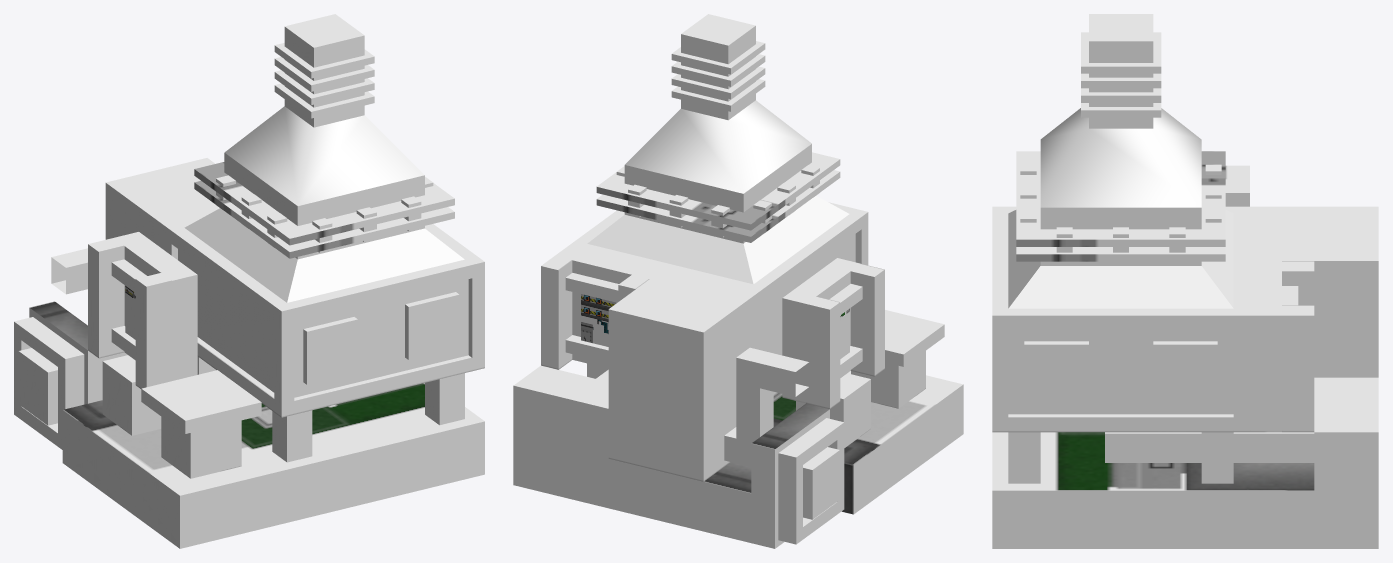
Rendered from reaction_still.obj.
3 views of the same model, side by side, from view 1: azimuth 30°, elevation 25°; view 2: azimuth 150°, elevation 25°; view 3: azimuth 270°, elevation 25° (orthographic). The views are drawn at different scales.
Parts seen in each view (by area): view 1: cube.005; view 2: cube.005; view 3: cube.005.
Part boxes in pixels (x1,y1,x2,y2): cube.005: [14, 14, 484, 548]; cube.005: [513, 14, 963, 548]; cube.005: [992, 14, 1378, 548].
Size of the model in its own units: 3 by 4 by 3.
